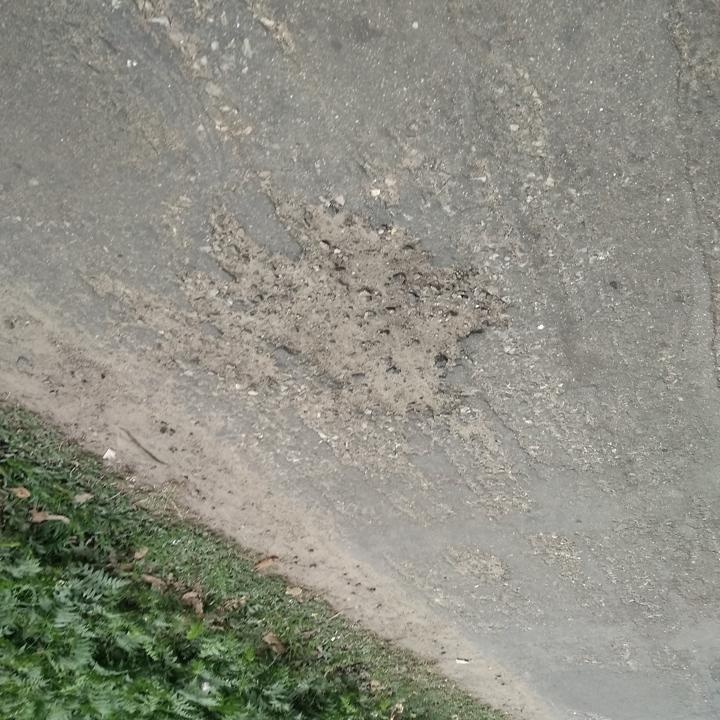pothole: (242, 213, 495, 424)
